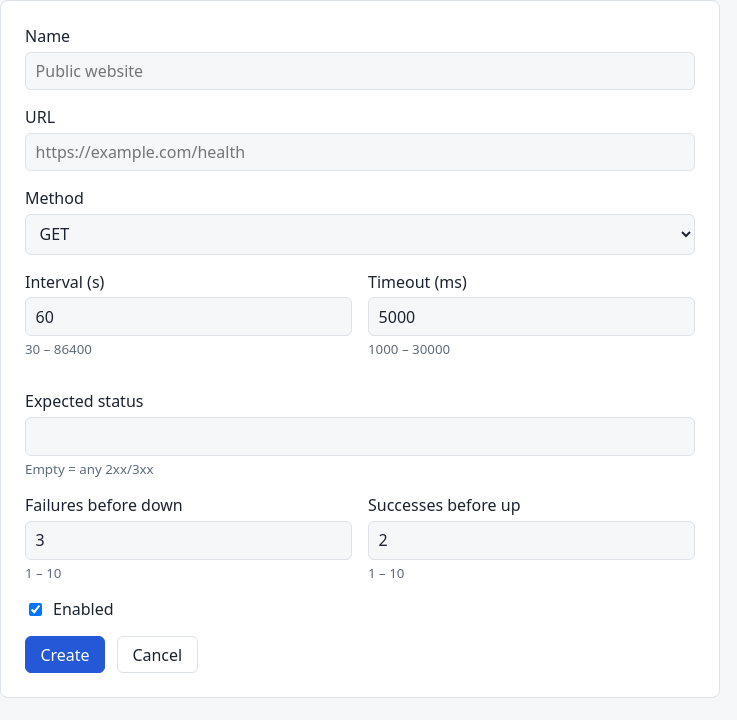
Test: MonitorForm › shows client-side errors and does not submit invalid input
Click the button "Create": (65, 655) [25,636,105,673]
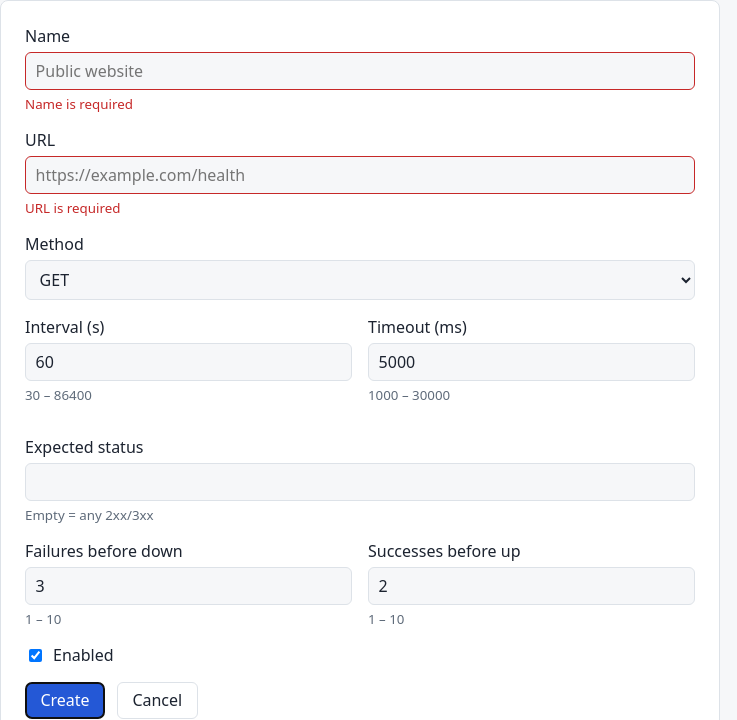
Result: the text "Name is required" is shown at [25,95,133,113]
Result: the text "URL is required" is shown at [25,199,120,217]
